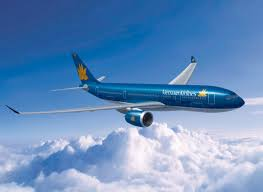maybay_dansu: (10, 49, 252, 130)
